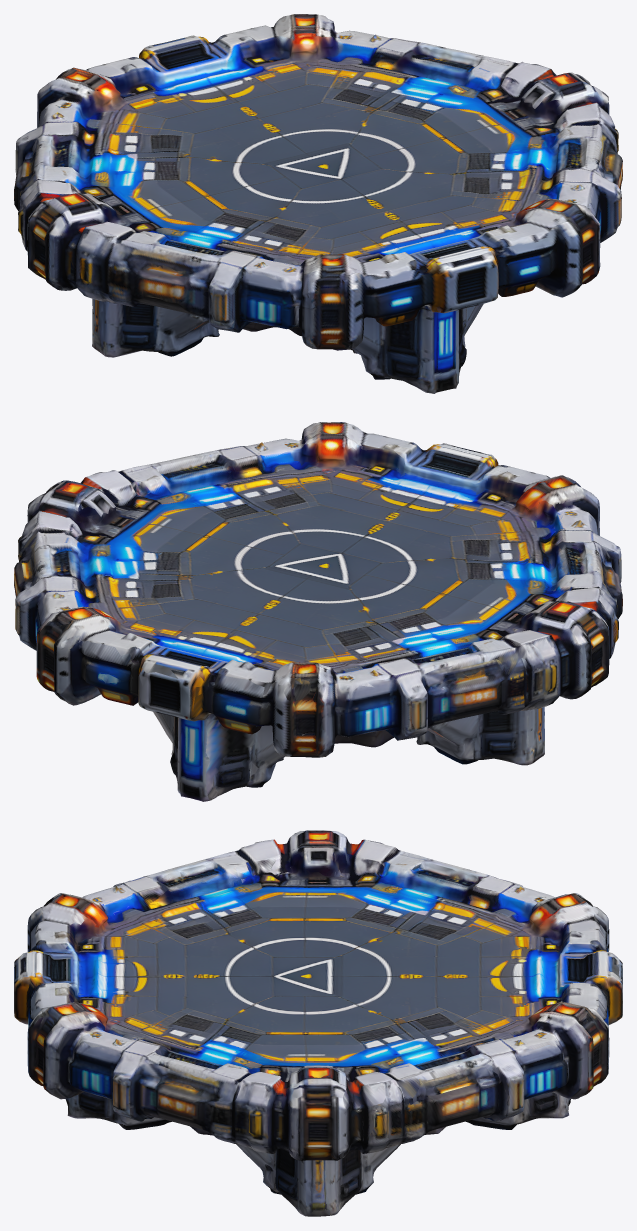
File: landingpad_optimizado.glb
3 renders of one model, top to bottom at view 1: azimuth 30°, elevation 25°; view 2: azimuth 150°, elevation 25°; view 3: azimuth 270°, elevation 25°, orthographic.
Visible parts, largest first — view 1: input; view 2: input; view 3: input.
Part boxes in pixels (bbox=[...]): input: bbox=[14, 14, 622, 393]; input: bbox=[14, 422, 622, 801]; input: bbox=[14, 830, 622, 1216].
Size of the model in its own units: 24 by 6.52 by 22.77.
Materials: 1 (1 with a texture image).
